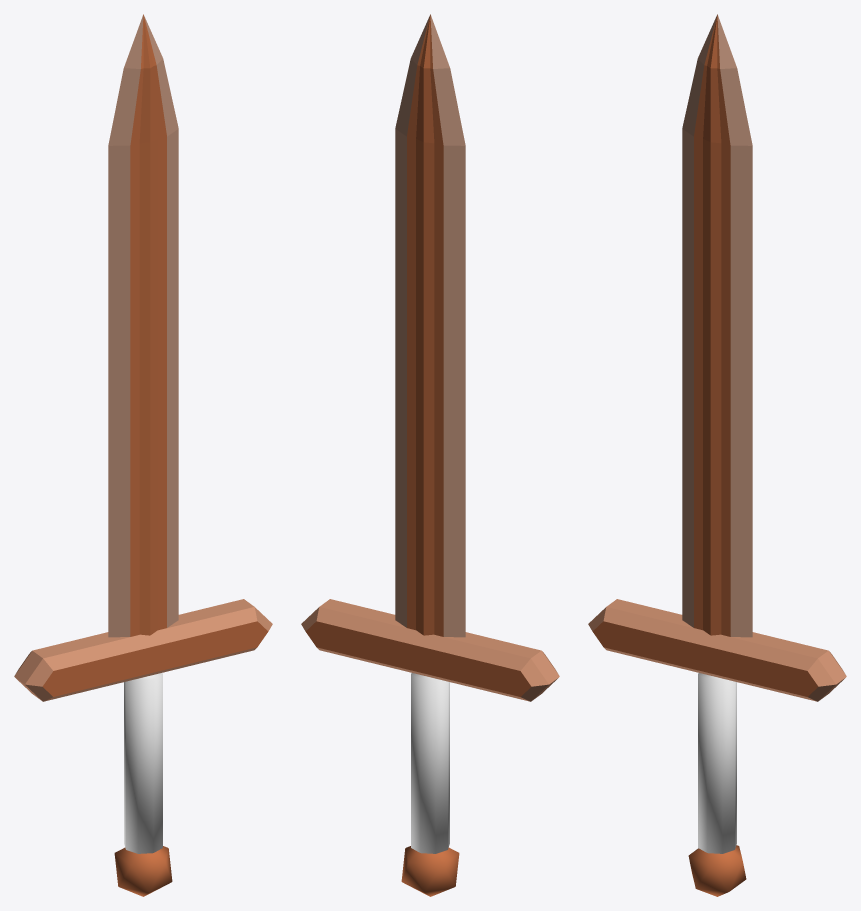
File: copper_broadsword.glb
3 views of the same model, side by side, from view 1: azimuth 30°, elevation 25°; view 2: azimuth 150°, elevation 25°; view 3: azimuth 330°, elevation 25° (orthographic).
Parts seen in each view (by area): view 1: copper_broadsword_v0; view 2: copper_broadsword_v0; view 3: copper_broadsword_v0.
Part boxes in pixels (bbox=[...]): copper_broadsword_v0: bbox=[14, 14, 272, 896]; copper_broadsword_v0: bbox=[301, 14, 559, 896]; copper_broadsword_v0: bbox=[588, 14, 846, 896].
Bounding box in the file's own units: 0.299 × 1.02 × 0.0578.
